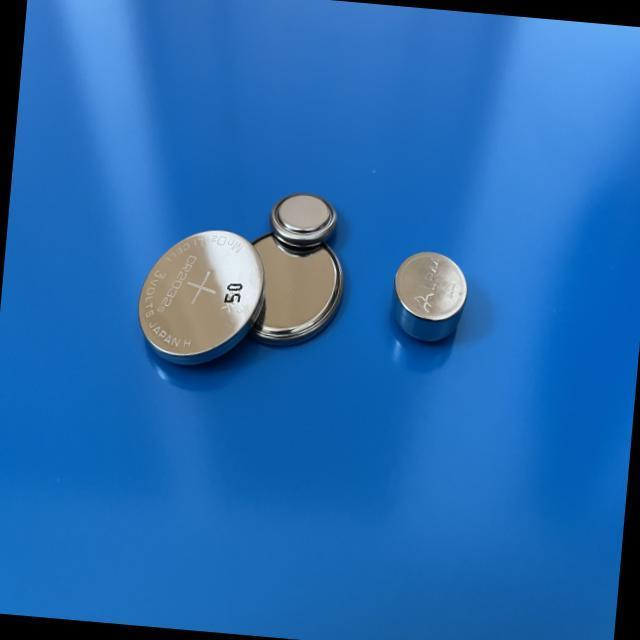COIN: (132, 218, 272, 372), (235, 224, 352, 356), (386, 248, 475, 348), (266, 182, 344, 252)
